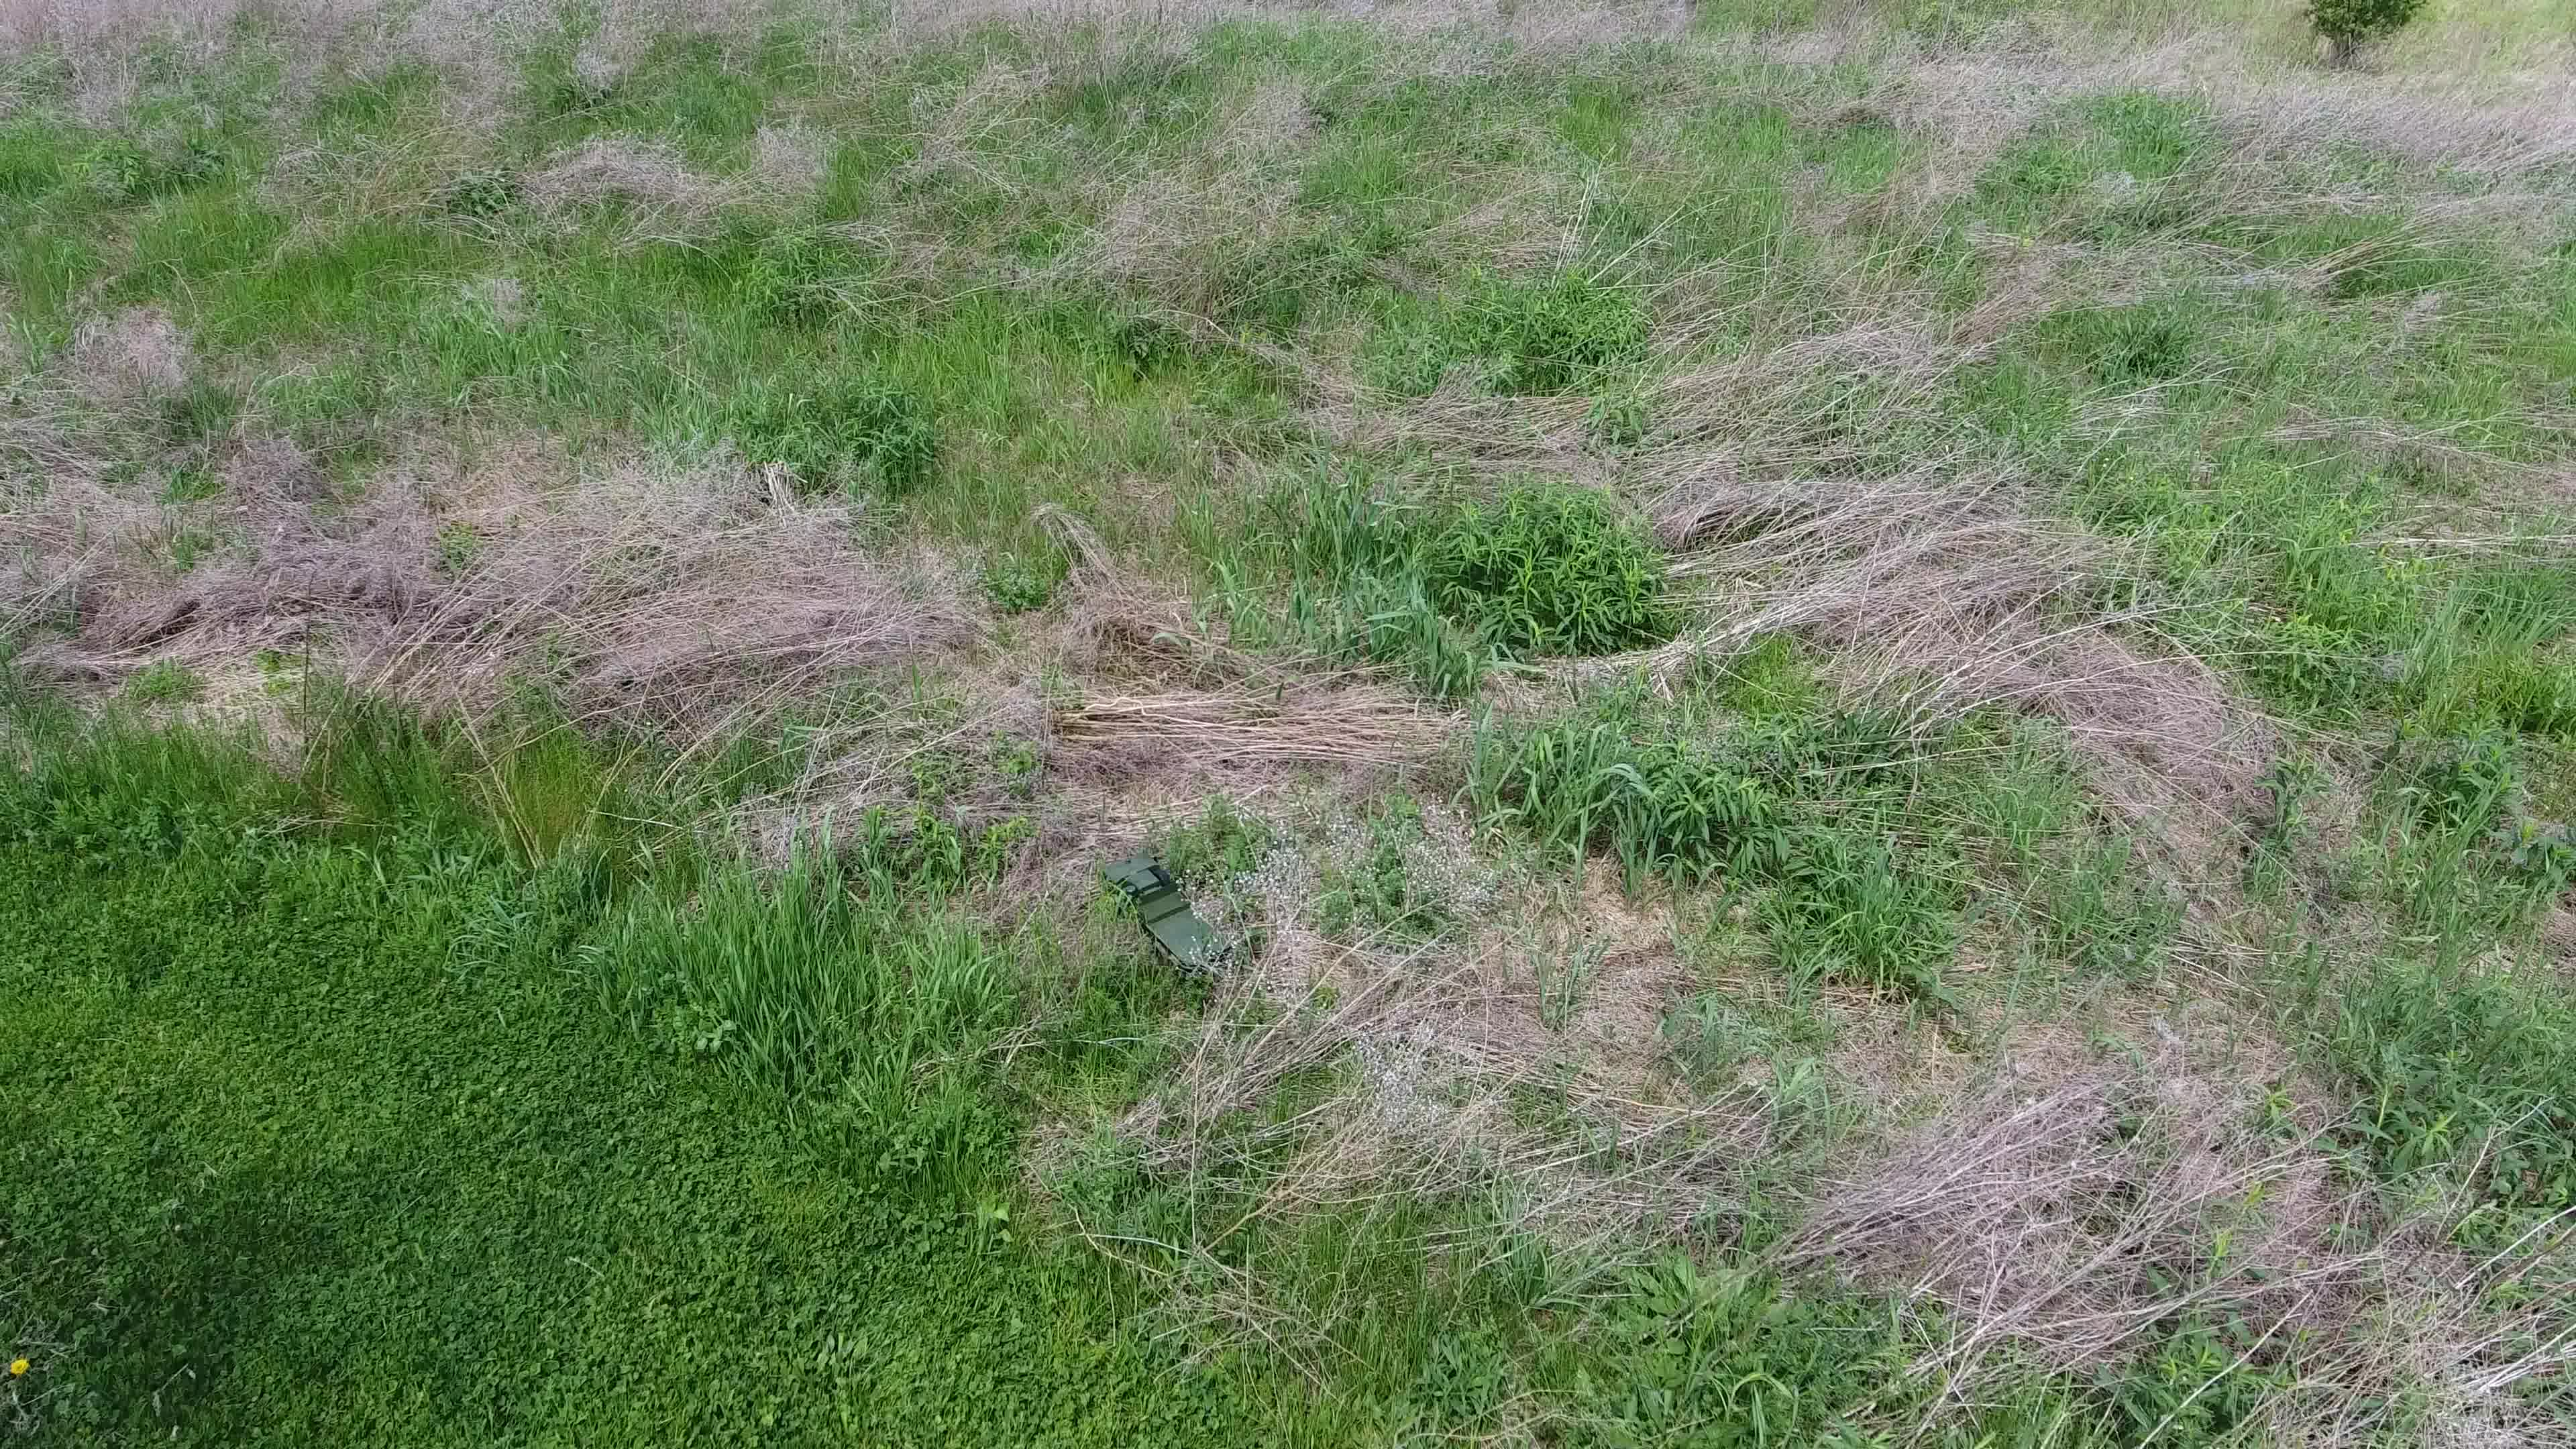transporter9: (1102, 851, 1237, 975)
